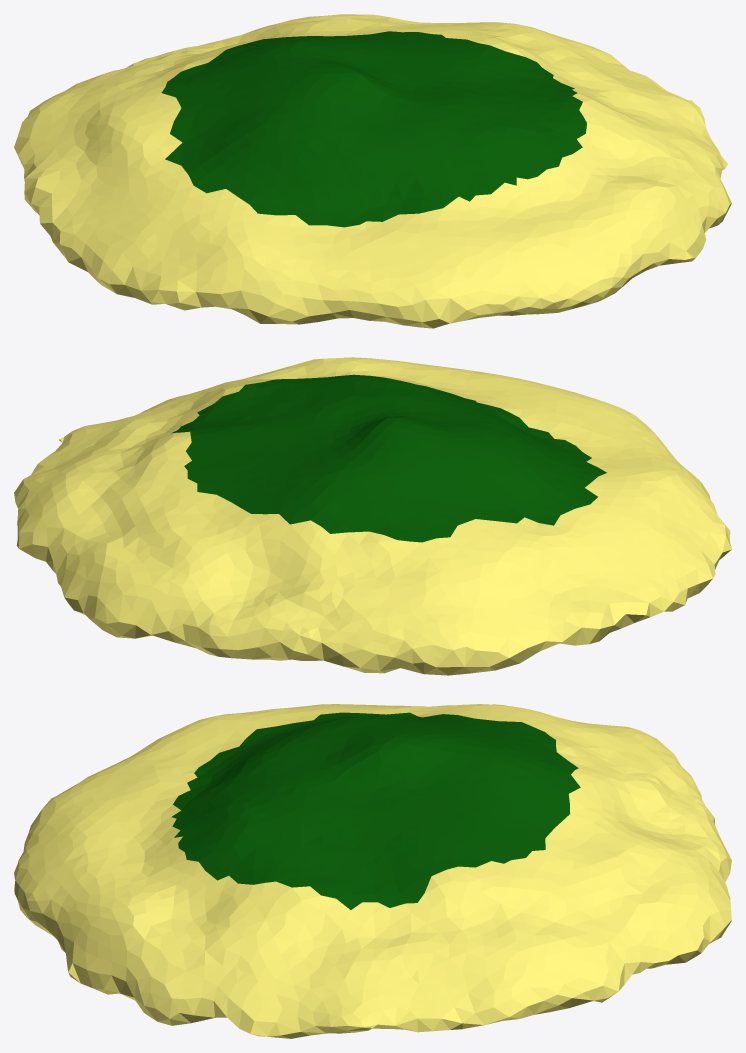
File: island.obj
3 views of the same model, one above another, from view 1: azimuth 30°, elevation 25°; view 2: azimuth 150°, elevation 25°; view 3: azimuth 270°, elevation 25° (orthographic). The views are drawn at different scales.
Parts seen in each view (by area): view 1: Icosphere_Icosphere.001; view 2: Icosphere_Icosphere.001; view 3: Icosphere_Icosphere.001.
Part boxes in pixels (left/top/right/bottom): Icosphere_Icosphere.001: left=14, top=14, right=731, bottom=328; Icosphere_Icosphere.001: left=14, top=357, right=731, bottom=675; Icosphere_Icosphere.001: left=14, top=704, right=731, bottom=1038.
Bounding box in the file's own units: 10.33 × 2.14 × 9.83.
